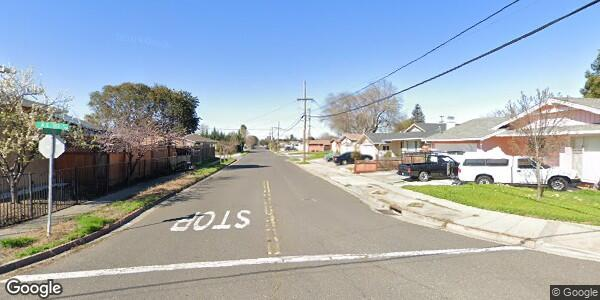Wood_Pole: (296, 77, 313, 164)
